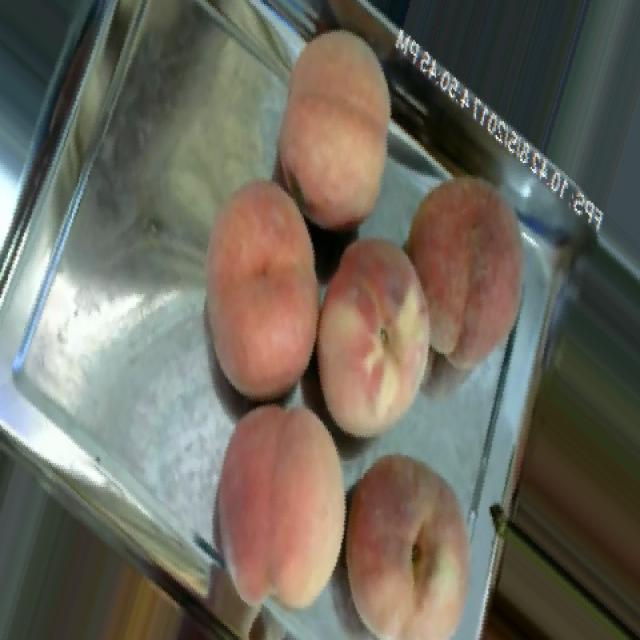Fruit: (173, 384, 368, 638), (247, 8, 425, 250), (492, 358, 640, 640), (380, 149, 553, 390), (168, 153, 320, 419), (304, 209, 459, 459), (324, 429, 497, 640)
